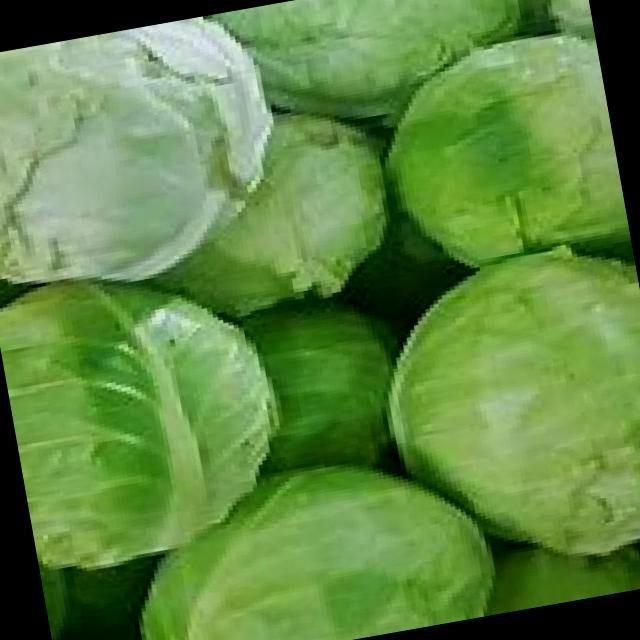cabbage: (366, 237, 640, 590), (0, 253, 297, 575), (0, 6, 297, 296), (362, 32, 631, 281)
